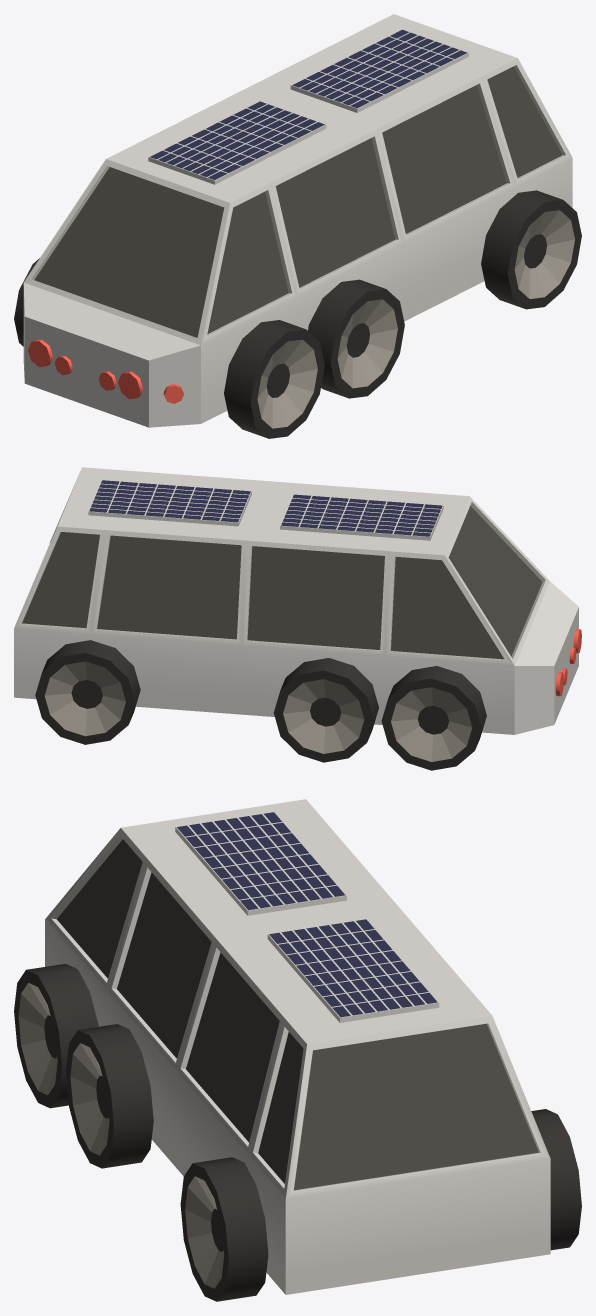
Rendered from 02 Space bus.FBX.
The picture shows the model from 3 angles, top to bottom: view 1: azimuth 30°, elevation 25°; view 2: azimuth 150°, elevation 25°; view 3: azimuth 270°, elevation 25°; orthographic projection. The views are drawn at different scales.
Visible parts, largest first — view 1: Box042; view 2: Box042; view 3: Box042.
Part boxes in pixels (x1=…): Box042: x1=14, y1=14, x2=581, y2=438; Box042: x1=14, y1=467, x2=581, y2=770; Box042: x1=14, y1=799, x2=581, y2=1301.
Bounding box in the file's own units: 2246 × 834 × 1613.
